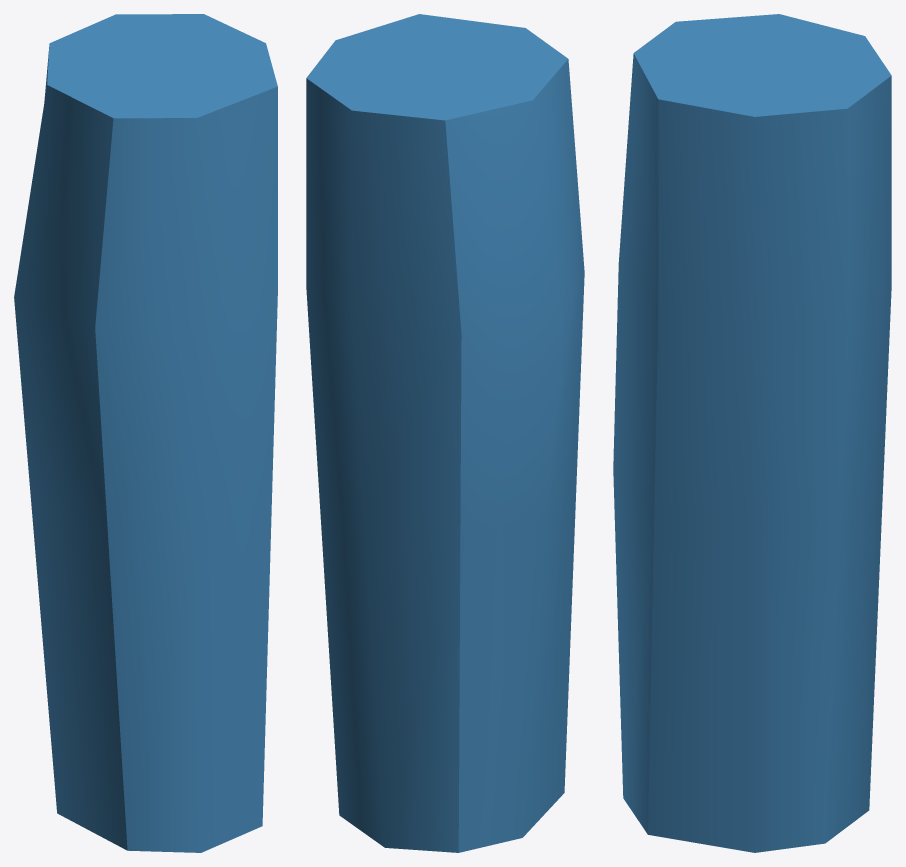
Rendered from Driver_Leg_01A.fbx.
3 renders of one model, left to right at view 1: azimuth 30°, elevation 25°; view 2: azimuth 150°, elevation 25°; view 3: azimuth 270°, elevation 25°, orthographic. The views are drawn at different scales.
Parts seen in each view (by area): view 1: Driver_Leg_01A; view 2: Driver_Leg_01A; view 3: Driver_Leg_01A.
Boxes of the visible parts, box(x1,y1,x2,y2) form: Driver_Leg_01A: box(14, 14, 277, 852); Driver_Leg_01A: box(306, 14, 584, 852); Driver_Leg_01A: box(613, 14, 891, 852).
Size of the model in its own units: 17.02 by 49.99 by 16.92.
